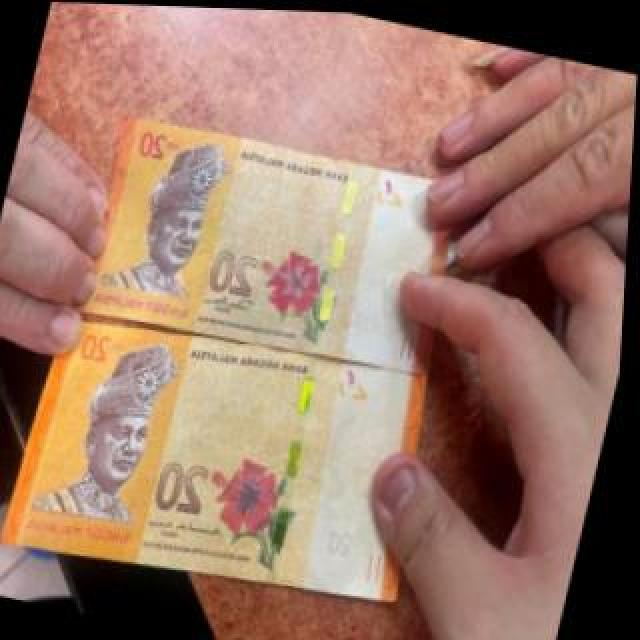20 Ringgit: (2, 288, 455, 622), (66, 106, 472, 380)
